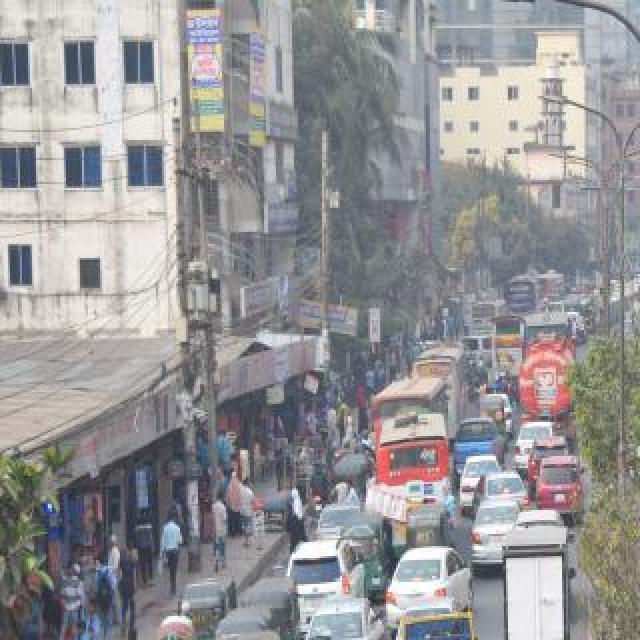bus: (377, 414, 455, 516), (372, 376, 450, 468), (413, 340, 465, 430), (490, 312, 528, 380), (466, 296, 508, 348), (524, 310, 570, 344), (505, 274, 541, 314), (538, 271, 566, 299)
car: (387, 546, 471, 618), (287, 536, 367, 608), (532, 451, 584, 523), (302, 596, 384, 640), (472, 504, 518, 566), (459, 451, 501, 511), (515, 415, 565, 465), (527, 432, 571, 486), (472, 472, 530, 504), (317, 499, 361, 541), (626, 408, 640, 488)
motorbike: (468, 358, 486, 402), (570, 314, 578, 346)
truck: (519, 333, 579, 427)
van: (506, 516, 576, 640), (400, 608, 482, 640), (455, 413, 503, 465)
